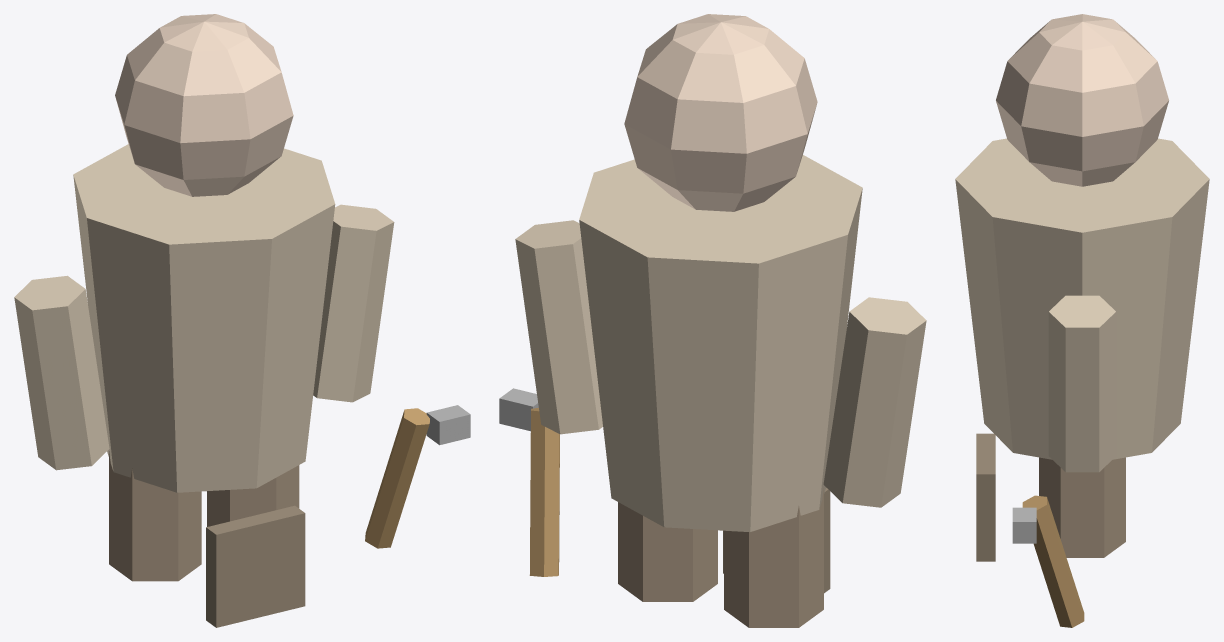
The model's file is builder.glb.
3 views of the same model, side by side, from view 1: azimuth 30°, elevation 25°; view 2: azimuth 150°, elevation 25°; view 3: azimuth 270°, elevation 25° (orthographic). The views are drawn at different scales.
Visible parts, largest first — view 1: builder; view 2: builder; view 3: builder.
Part boxes in pixels (<box>): builder: <box>14,14,470,627</box>; builder: <box>499,14,926,627</box>; builder: <box>955,14,1209,627</box>.
Bounding box in the file's own units: 0.4609 × 0.6011 × 0.264.
